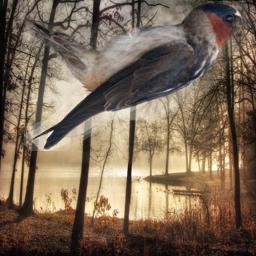Swallow: (24, 1, 255, 151)
